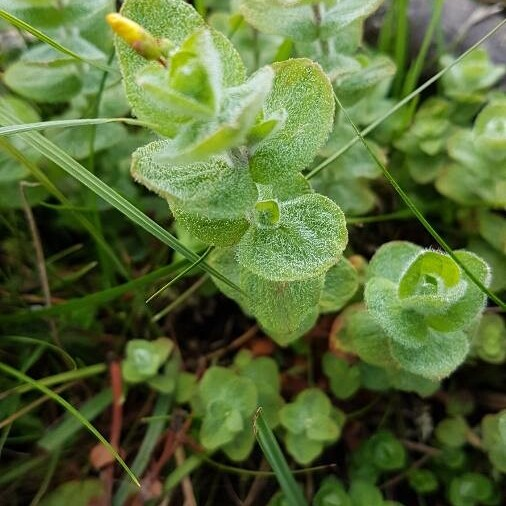obstacle: (87, 16, 463, 431)
